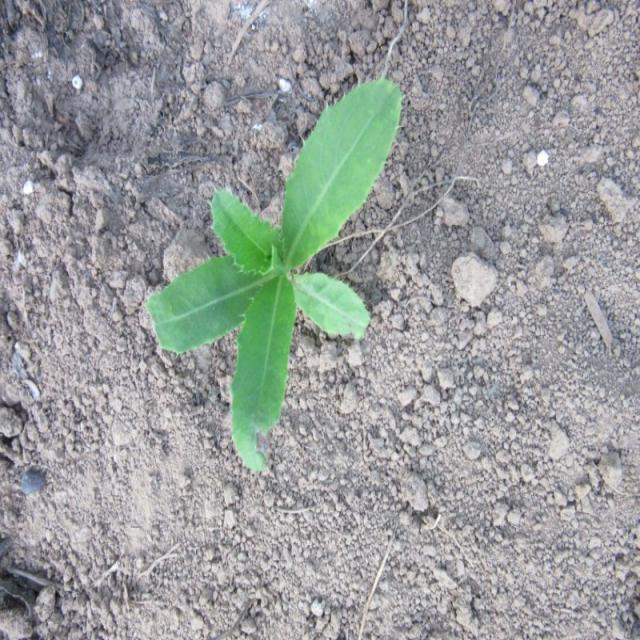cs: (142, 70, 406, 474)
